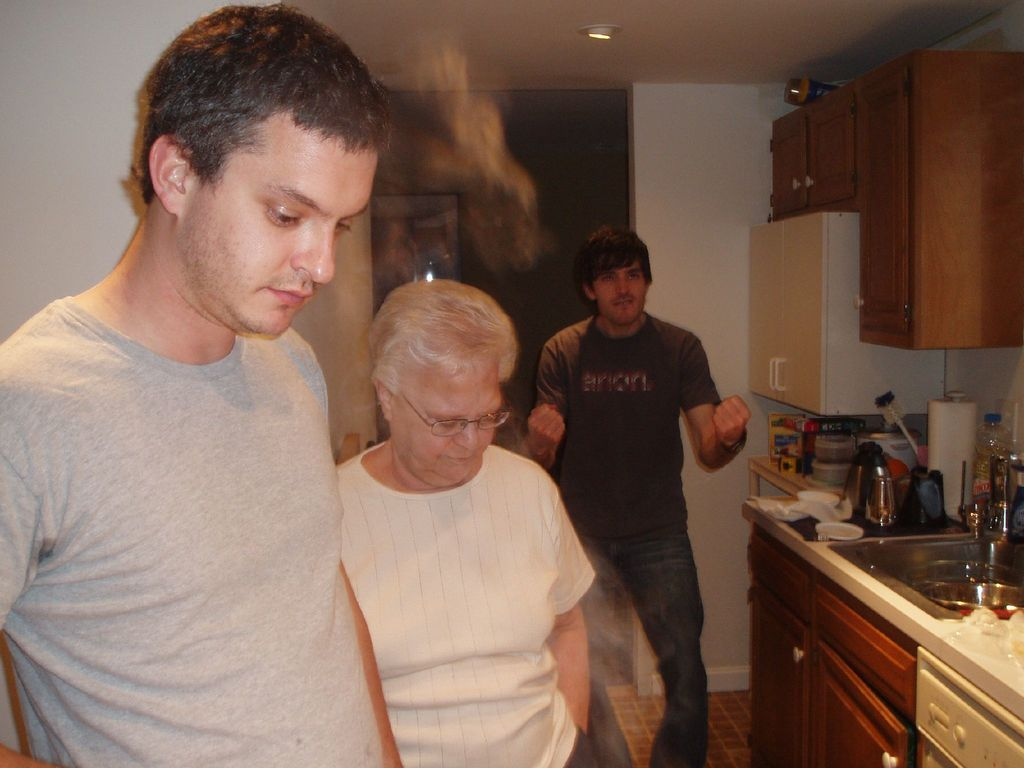cabinet door: (861, 108, 918, 345), (780, 226, 826, 414), (822, 665, 893, 768), (754, 622, 804, 768), (749, 236, 778, 394), (806, 115, 847, 197), (774, 122, 803, 207)
handle: (771, 353, 790, 394), (763, 352, 781, 393), (790, 638, 808, 672), (875, 748, 905, 768), (787, 170, 802, 195), (801, 173, 818, 195), (854, 292, 867, 316)
